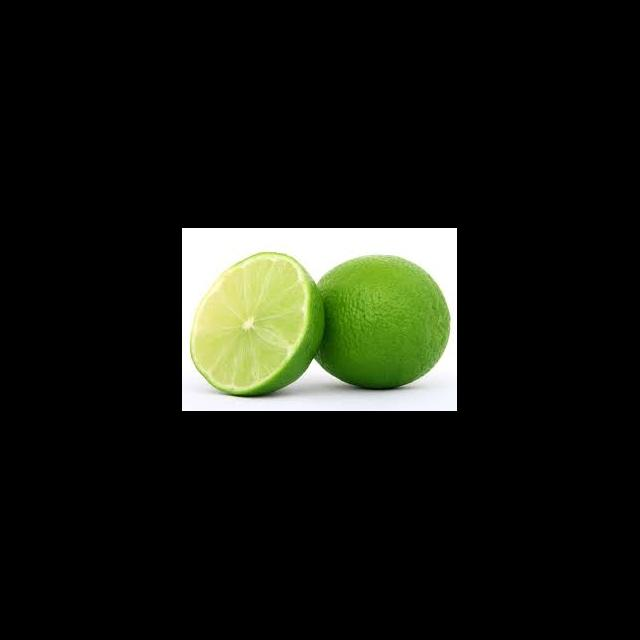lime: (192, 250, 325, 397), (321, 256, 451, 392)
